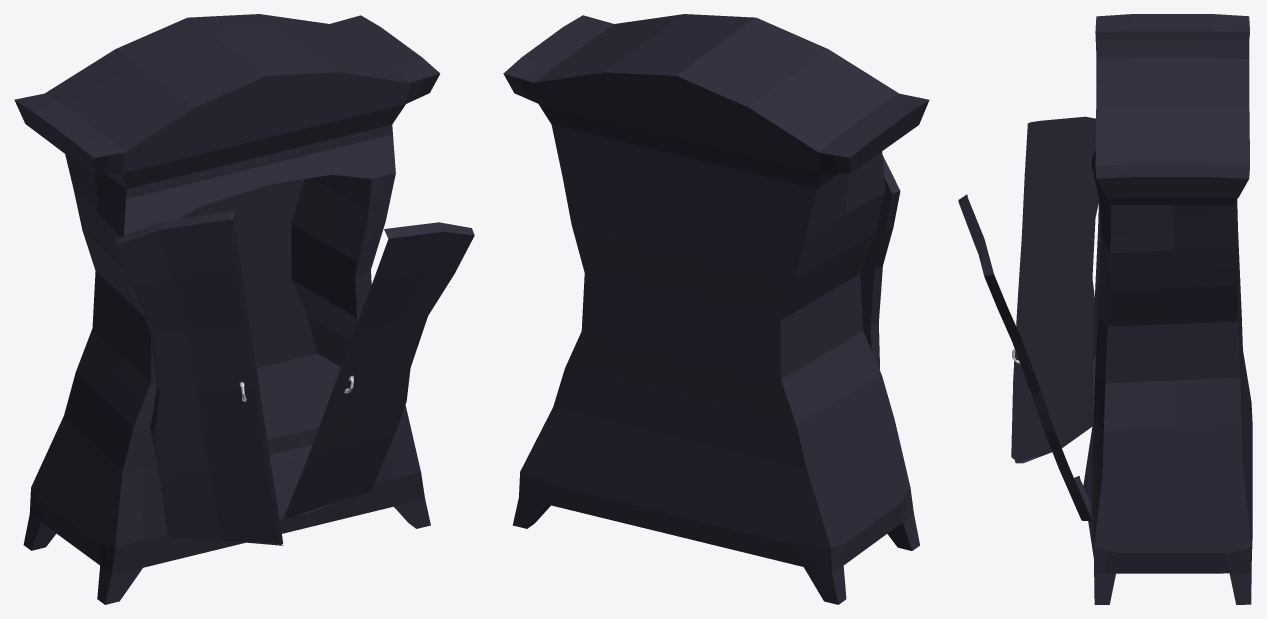
Rendered from Armadio_rotto.fbx.
3 renders of one model, left to right at view 1: azimuth 30°, elevation 25°; view 2: azimuth 150°, elevation 25°; view 3: azimuth 270°, elevation 25°, orthographic. The views are drawn at different scales.
Parts seen in each view (by area): view 1: Cube.052, Cube.053, Cube.054; view 2: Cube.052, Cube.053; view 3: Cube.052, Cube.053, Cube.054.
Part boxes in pixels (x1=…): Cube.052: x1=14, y1=14, x2=440, y2=604; Cube.053: x1=115, y1=211, x2=283, y2=545; Cube.054: x1=279, y1=222, x2=474, y2=520; Cube.052: x1=503, y1=14, x2=929, y2=604; Cube.053: x1=860, y1=154, x2=900, y2=369; Cube.052: x1=1083, y1=14, x2=1252, y2=604; Cube.053: x1=1011, y1=116, x2=1098, y2=463; Cube.054: x1=958, y1=194, x2=1092, y2=520.
Size of the model in its own units: 226 by 304 by 172.
